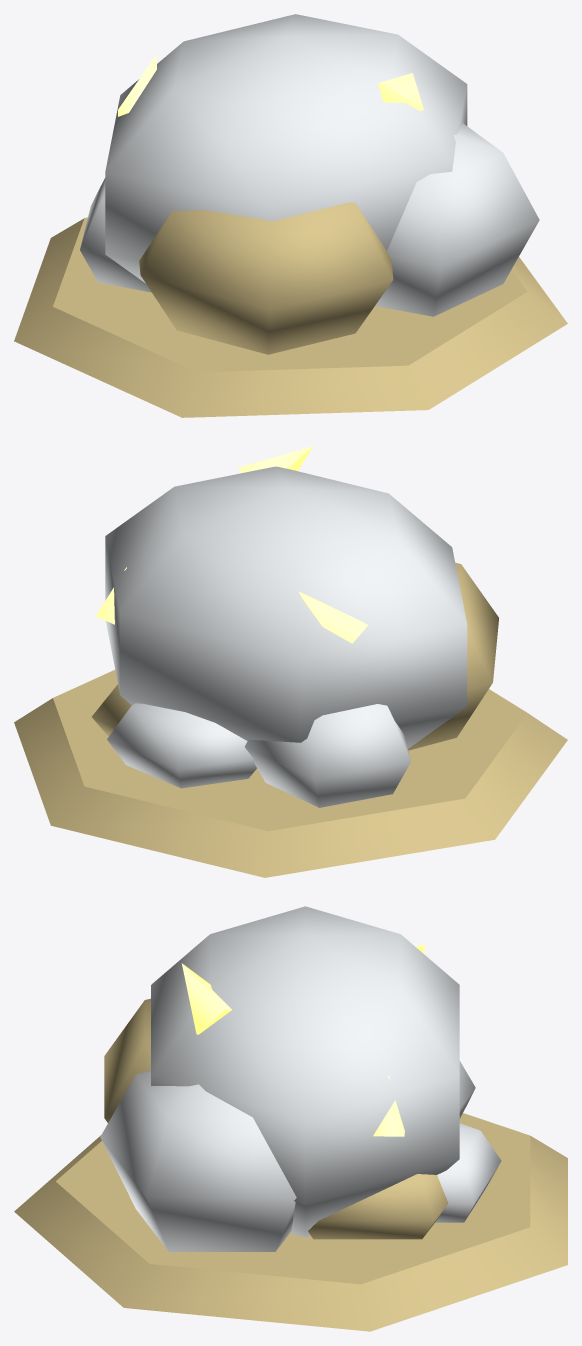
Rendered from drop-snow-clump.glb.
3 views of the same model, one above another, from view 1: azimuth 30°, elevation 25°; view 2: azimuth 150°, elevation 25°; view 3: azimuth 270°, elevation 25° (orthographic). The views are drawn at different scales.
Visible parts, largest first — view 1: Mesh_MainSnow, Mesh_IceBase, Mesh_ShadowIce1, Mesh_SideSnow1, Mesh_SideSnow2, Mesh_Glint1, Mesh_Glint2; view 2: Mesh_MainSnow, Mesh_IceBase, Mesh_SideSnow2, Mesh_SideSnow3, Mesh_ShadowIce1, Mesh_Glint2, Mesh_ShadowIce2, Mesh_Glint1; view 3: Mesh_MainSnow, Mesh_IceBase, Mesh_SideSnow1, Mesh_ShadowIce2, Mesh_SideSnow3, Mesh_ShadowIce1, Mesh_Glint1, Mesh_Glint3, Mesh_SideSnow2.
Part boxes in pixels (x1=…): Mesh_MainSnow: x1=105, y1=14, x2=467, y2=283; Mesh_IceBase: x1=14, y1=217, x2=567, y2=417; Mesh_ShadowIce1: x1=139, y1=202, x2=393, y2=354; Mesh_SideSnow1: x1=375, y1=123, x2=539, y2=316; Mesh_SideSnow2: x1=80, y1=178, x2=151, y2=292; Mesh_Glint1: x1=378, y1=73, x2=423, y2=110; Mesh_Glint2: x1=118, y1=54, x2=156, y2=116; Mesh_MainSnow: x1=105, y1=466, x2=467, y2=748; Mesh_IceBase: x1=14, y1=670, x2=567, y2=877; Mesh_SideSnow2: x1=244, y1=704, x2=410, y2=807; Mesh_SideSnow3: x1=107, y1=703, x2=256, y2=788; Mesh_ShadowIce1: x1=408, y1=562, x2=498, y2=750; Mesh_Glint2: x1=298, y1=591, x2=367, y2=643; Mesh_ShadowIce2: x1=92, y1=684, x2=131, y2=736; Mesh_Glint1: x1=238, y1=446, x2=312, y2=473; Mesh_MainSnow: x1=151, y1=906, x2=459, y2=1237; Mesh_IceBase: x1=14, y1=1113, x2=567, y2=1331; Mesh_SideSnow1: x1=100, y1=1070, x2=296, y2=1251; Mesh_ShadowIce2: x1=308, y1=1174, x2=448, y2=1239; Mesh_SideSnow3: x1=435, y1=1123, x2=501, y2=1222; Mesh_ShadowIce1: x1=104, y1=998, x2=150, y2=1122; Mesh_Glint1: x1=181, y1=963, x2=231, y2=1034; Mesh_Glint3: x1=373, y1=1075, x2=404, y2=1136; Mesh_SideSnow2: x1=459, y1=1061, x2=475, y2=1118.
Bounding box in the file's own units: 1.36 × 0.73 × 1.33.
